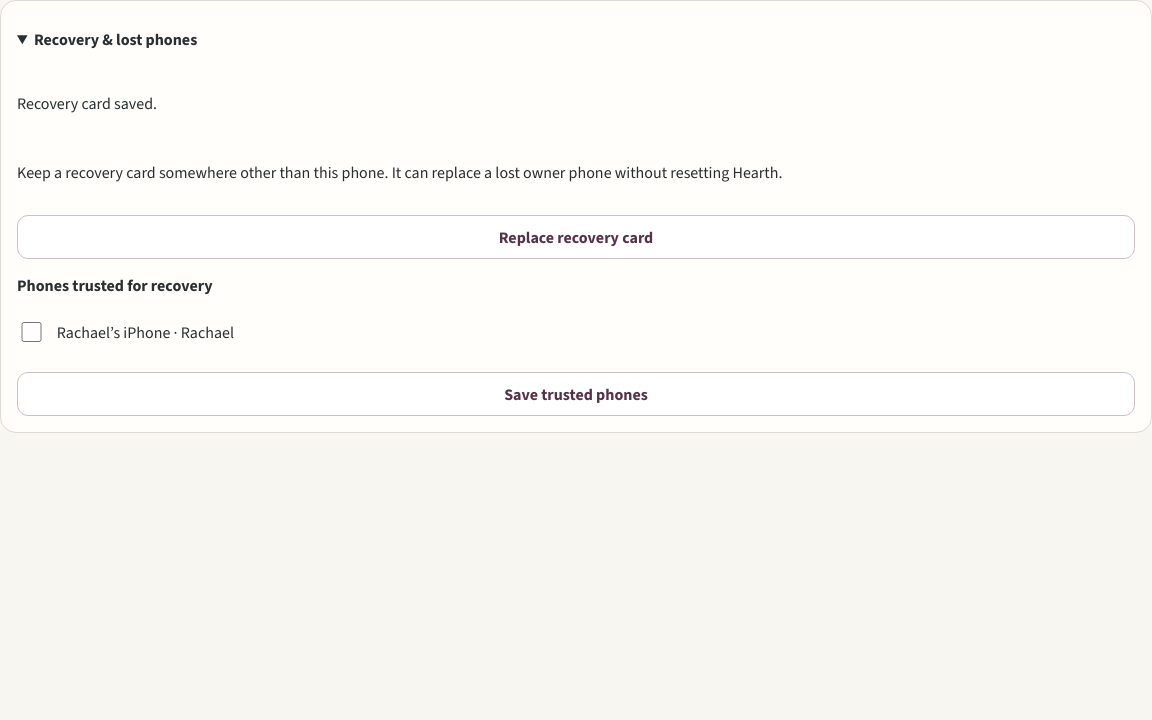
Scenario: compact phone recovery › keeps the old saved card state after a prepare failure
This screenshot has width=1152, height=720.
Click the button "Replace recovery card" at (576, 237), box [17, 215, 1135, 259]
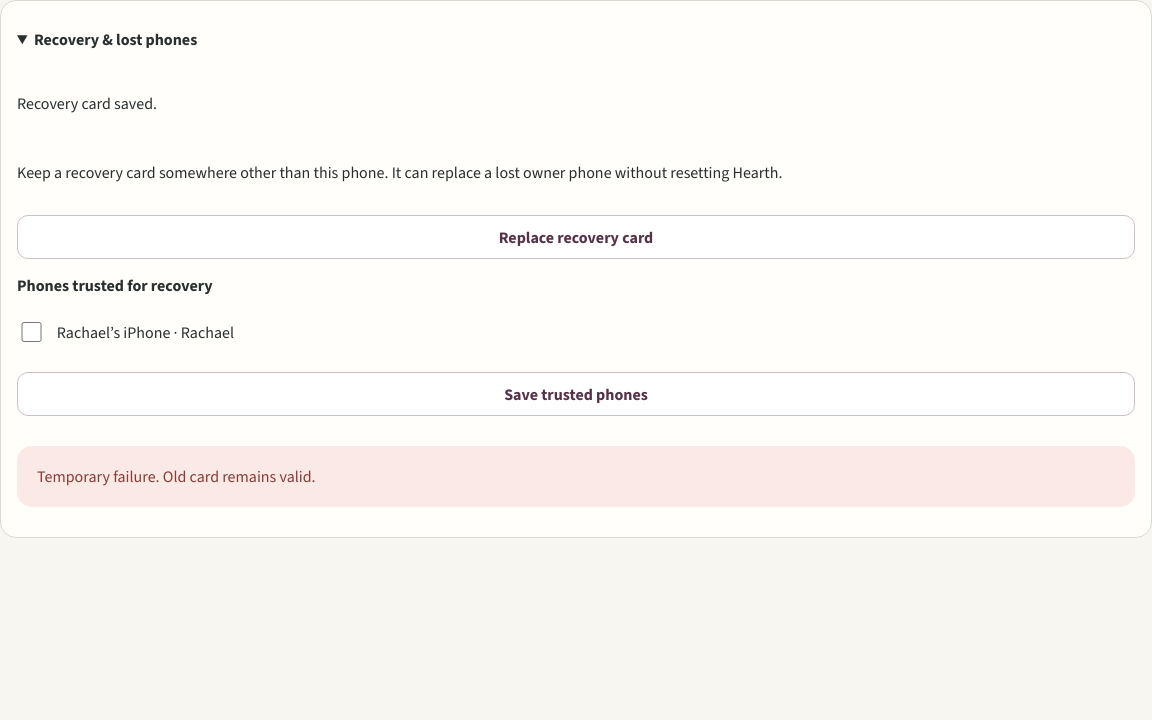
Expected: the text "Recovery card saved." is shown, [17, 93, 157, 114]
Now the text "Temporary failure. Old card remains valid." is shown, box [37, 466, 316, 487]
